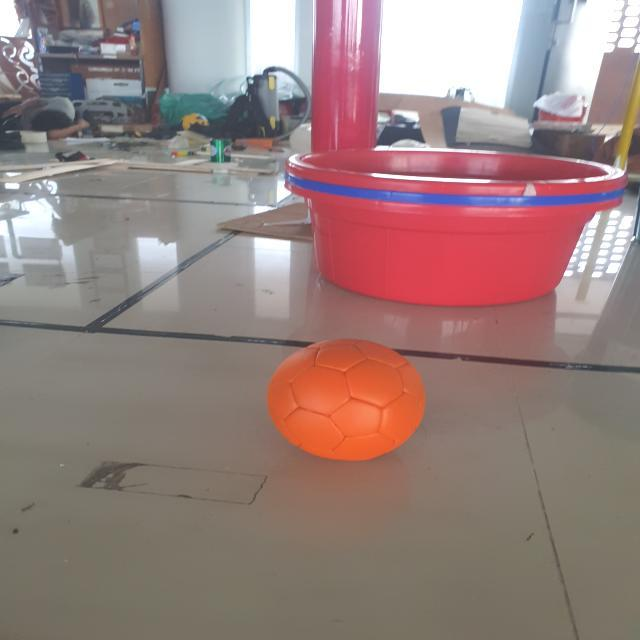bola: (254, 332, 436, 469)
